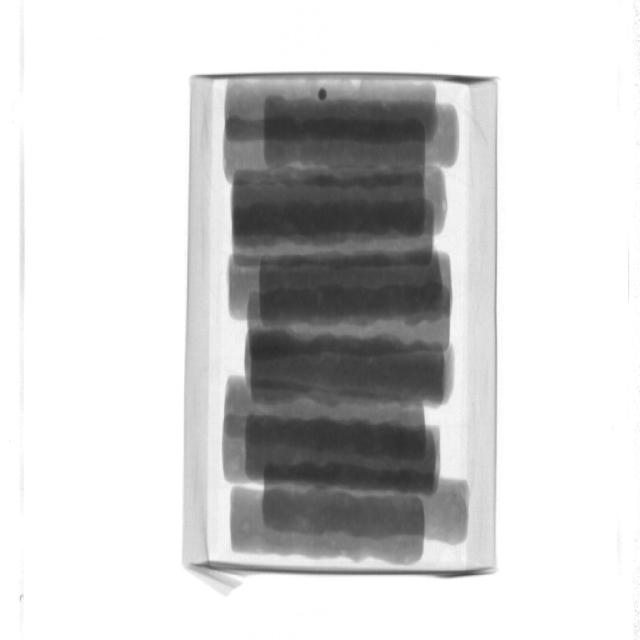ym: (319, 90, 328, 103)
